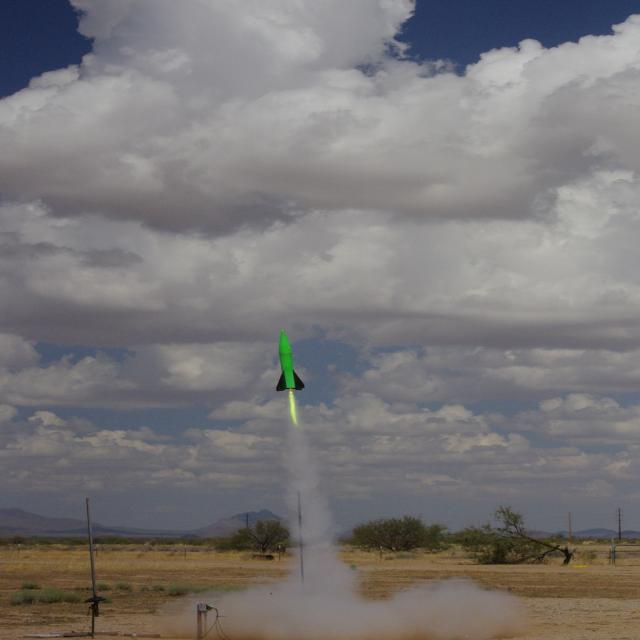Rocket: (276, 329, 305, 391)
